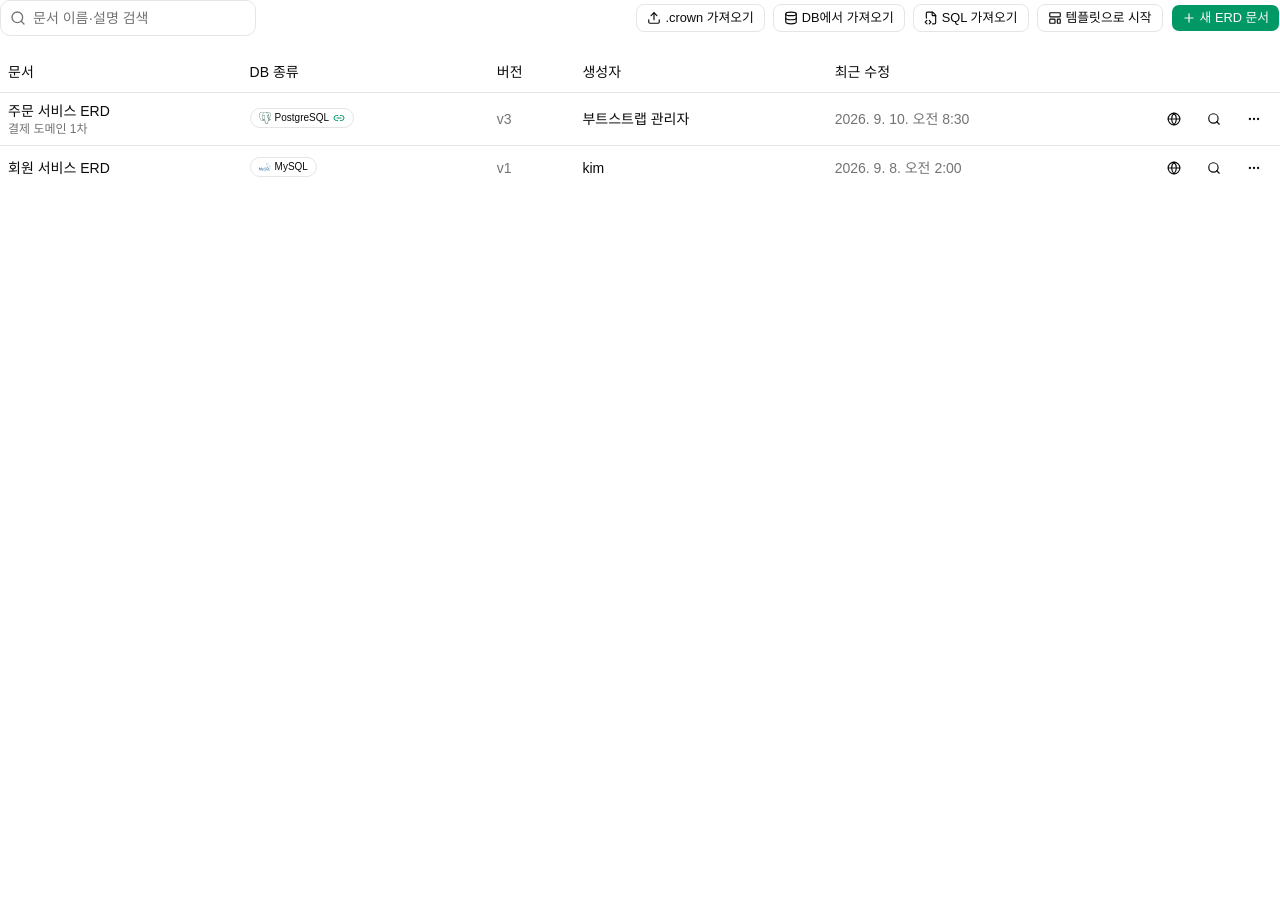
Test: ERD 탭 › connects a document to a database via the row action
The image size is (1280, 900).
Expected: the button "주문 서비스 ERD" is shown, [8,100,110,120]
Click the button named "회원 서비스 ERD 문서 작업" at (1254, 168), box [1236,154,1272,182]
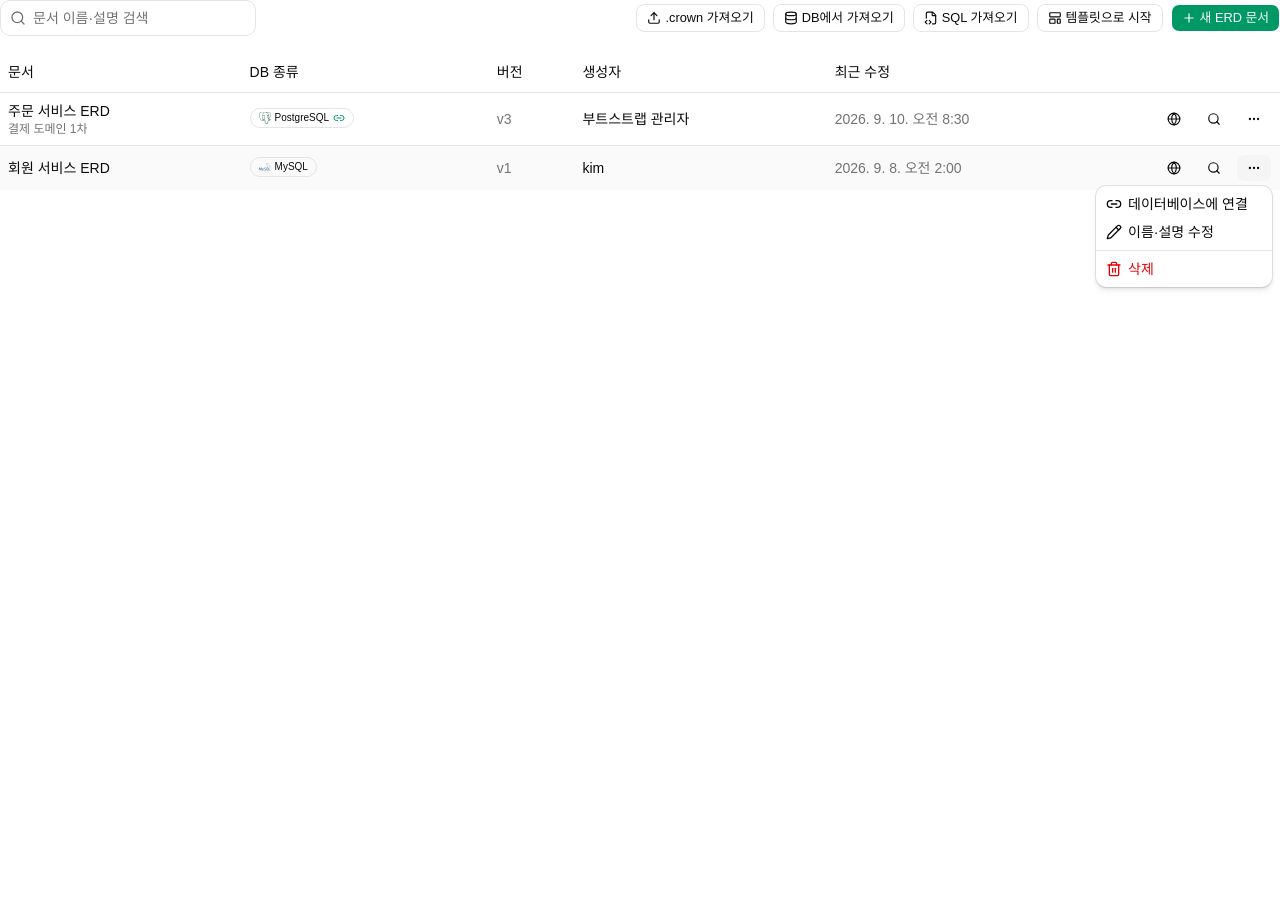
Click the menu item "데이터베이스에 연결" at (1177, 204), box [1106,196,1248,212]
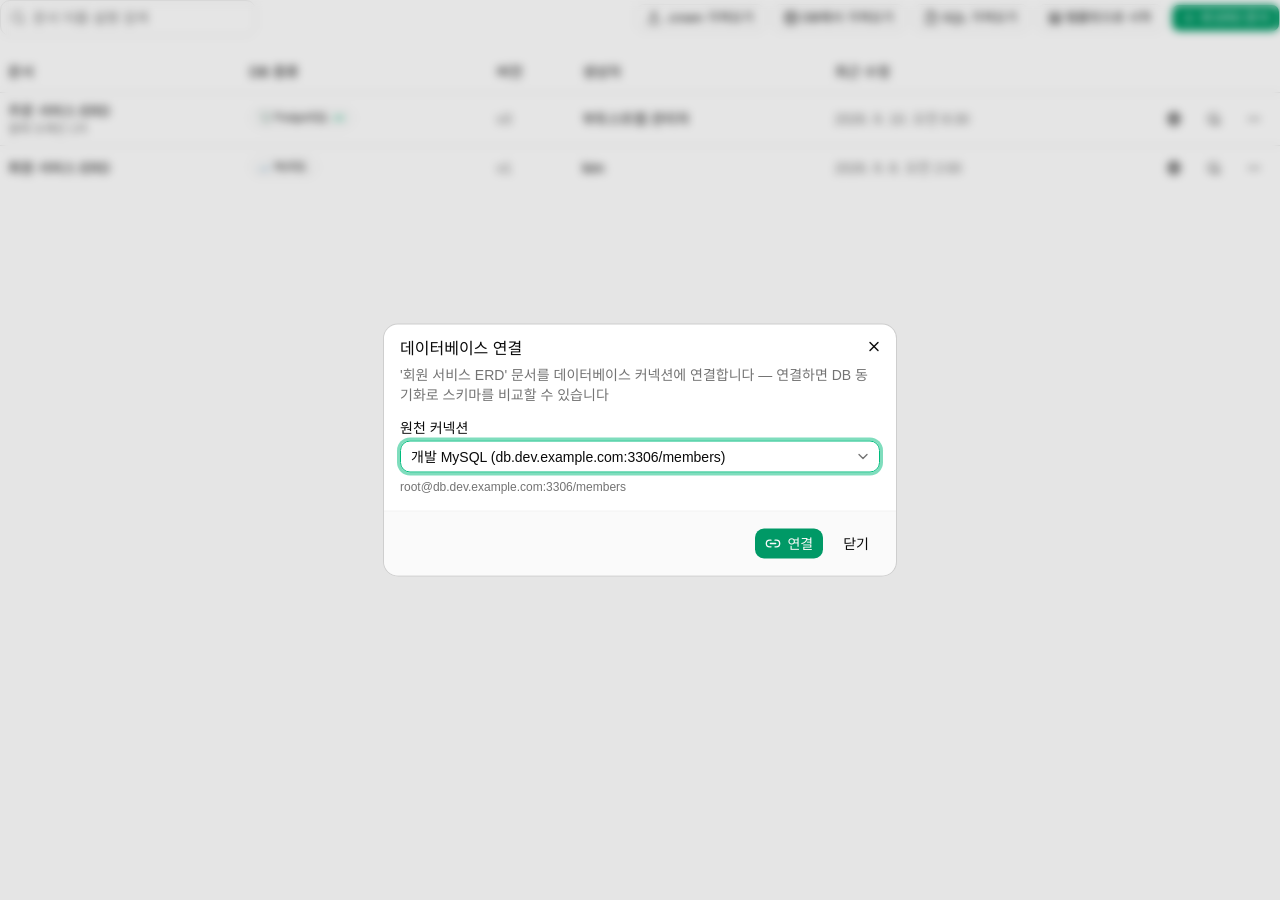
Expected: the dropdown shows "개발 MySQL", [400,440,880,472]
Click the button "연결" at (789, 544), box [754,528,824,560]
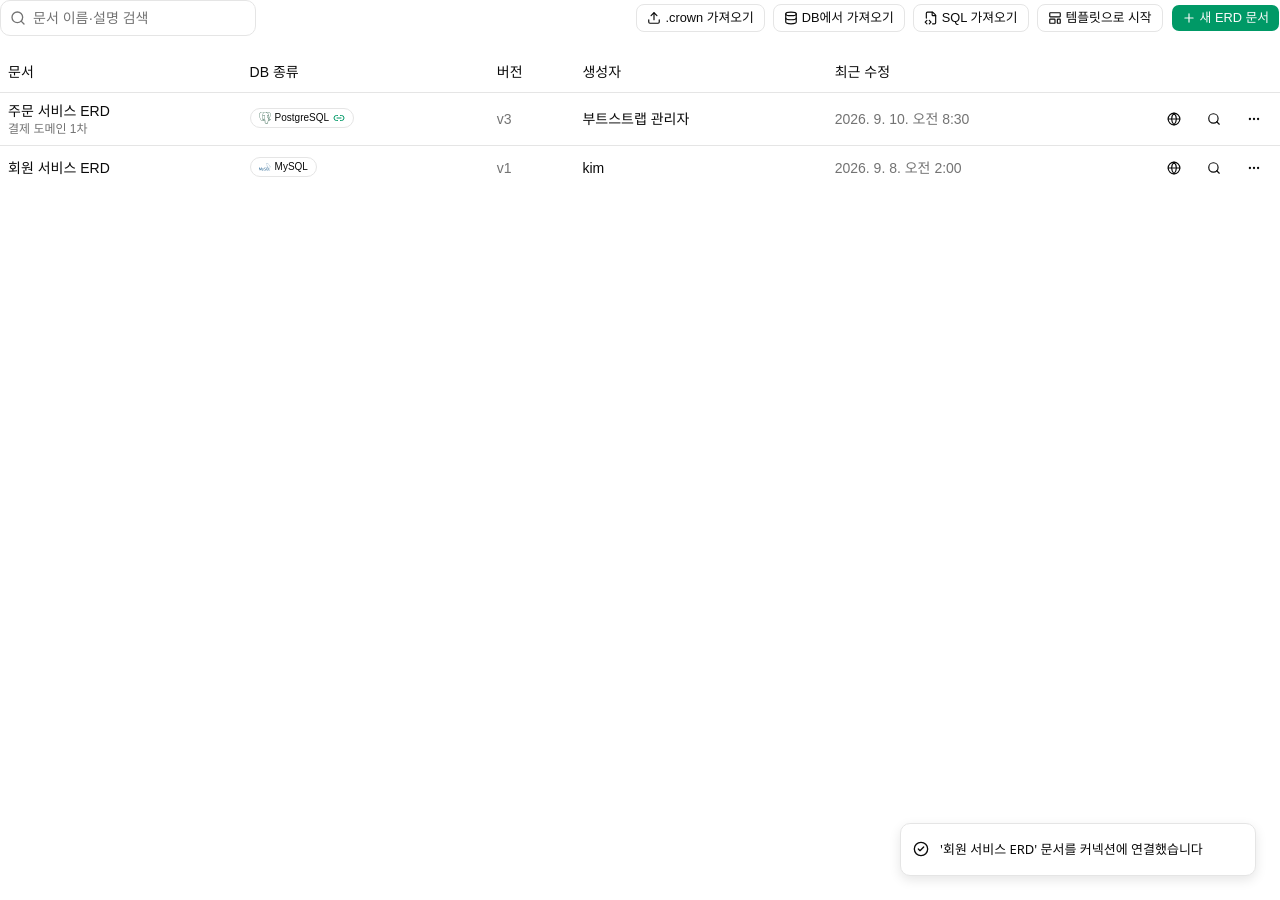
Expected: the text "'회원 서비스 ERD' 문서를 커넥션에 연결했습니다" is shown, [940,840,1203,859]
